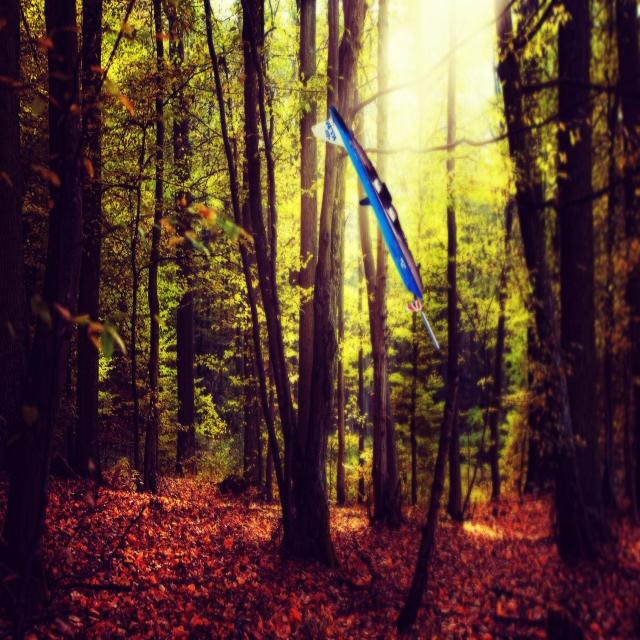airplane: (310, 104, 441, 352)
